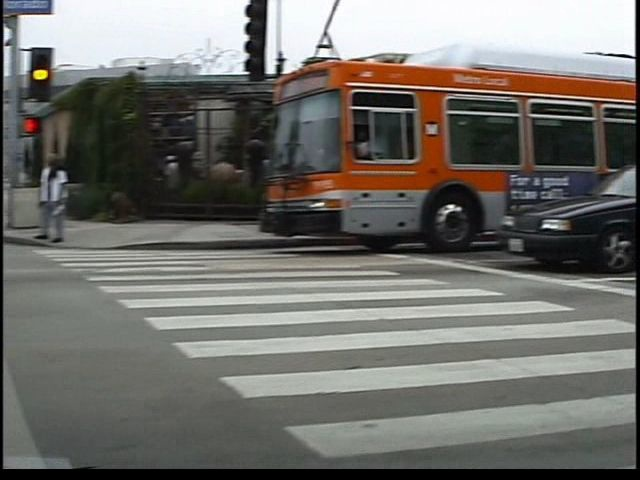person: (51, 147, 91, 248)
